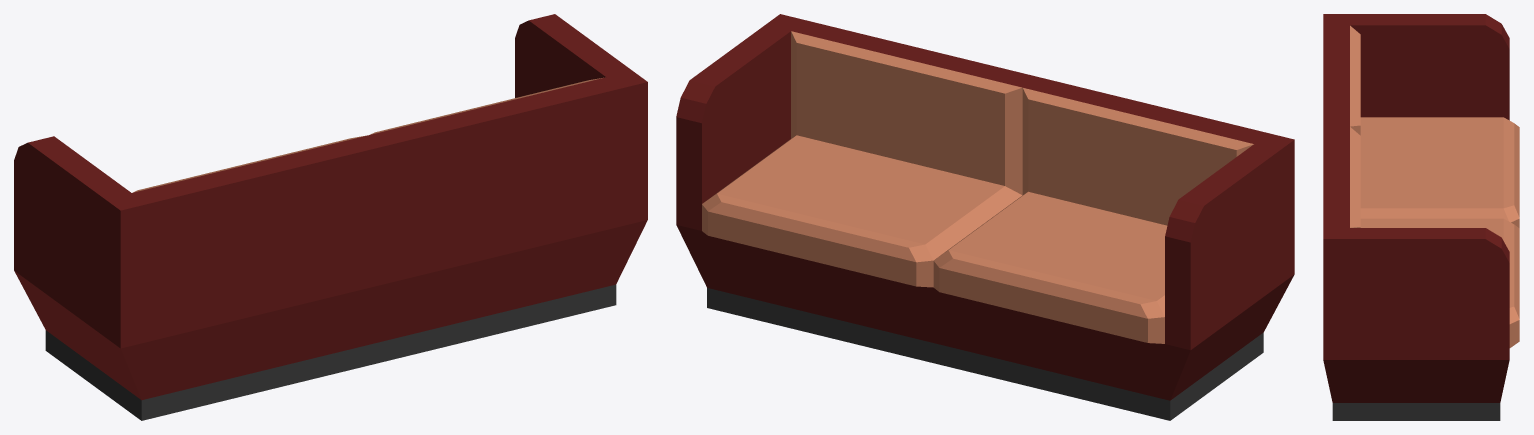
The model's file is Couch.fbx.
3 views of the same model, side by side, from view 1: azimuth 30°, elevation 25°; view 2: azimuth 150°, elevation 25°; view 3: azimuth 270°, elevation 25° (orthographic). The views are drawn at different scales.
Parts seen in each view (by area): view 1: Couch; view 2: Couch; view 3: Couch.
Boxes of the visible parts, <box> form: Couch: <box>14,14,647,420</box>; Couch: <box>676,14,1294,420</box>; Couch: <box>1323,14,1519,420</box>.
Bounding box in the file's own units: 20 × 8 × 7.38.
